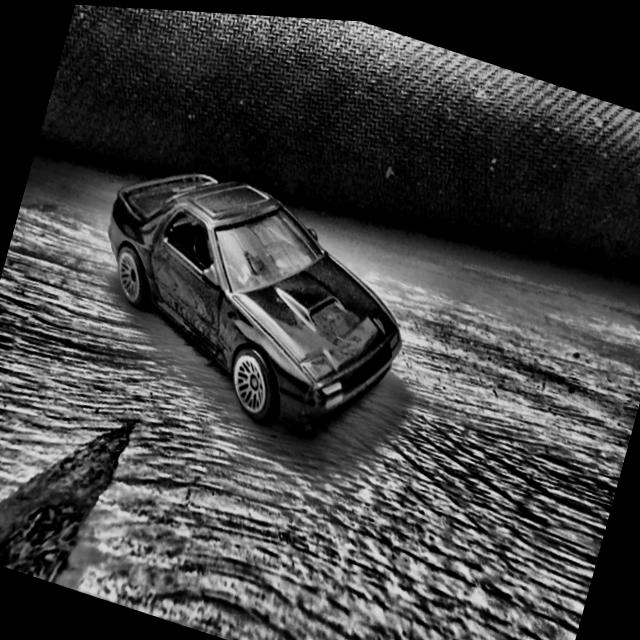car: (70, 138, 430, 460)
